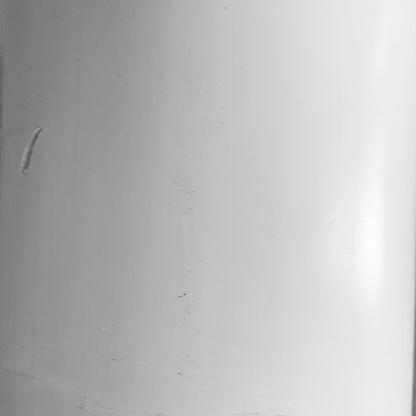sunshang: (16, 126, 45, 176)
